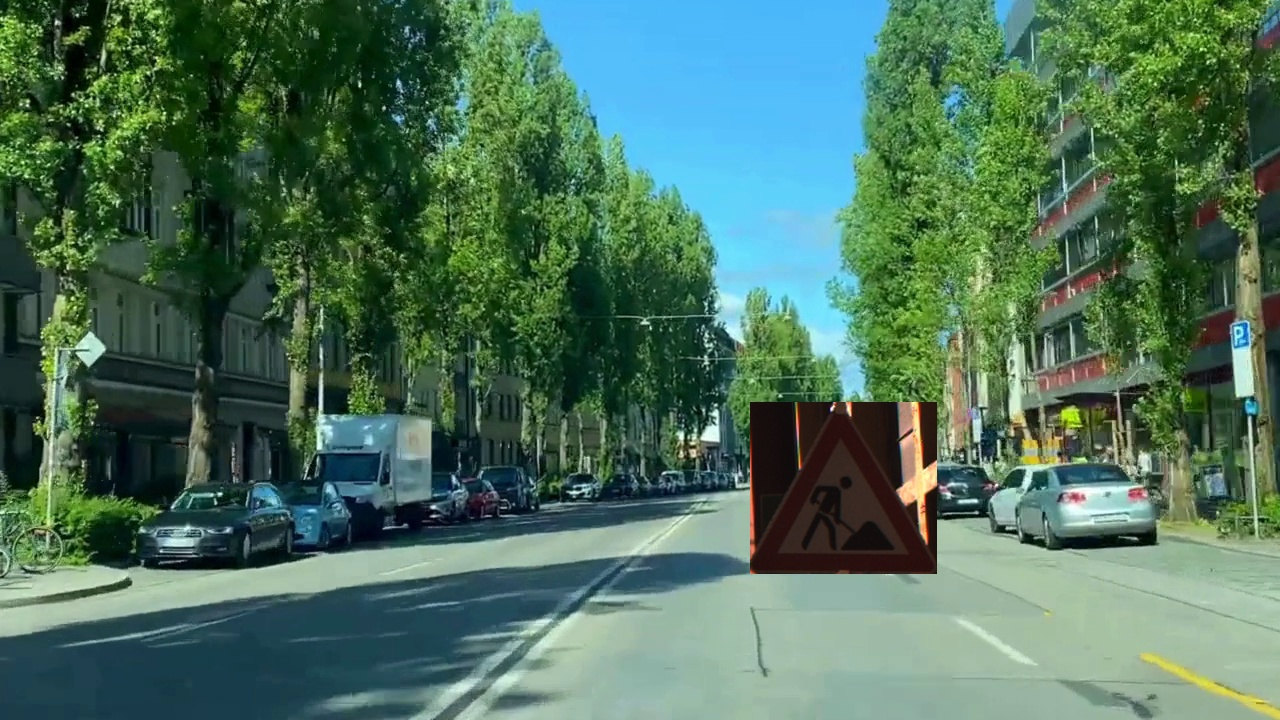Road work: (750, 402, 937, 574)
